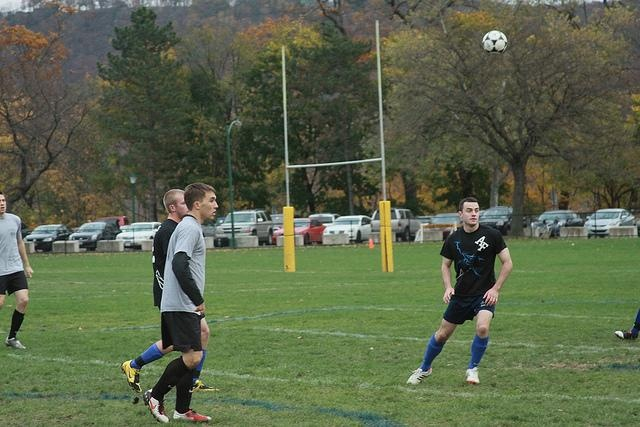person: (408, 191, 514, 394), (116, 187, 212, 394), (144, 182, 219, 422), (1, 188, 30, 354)
